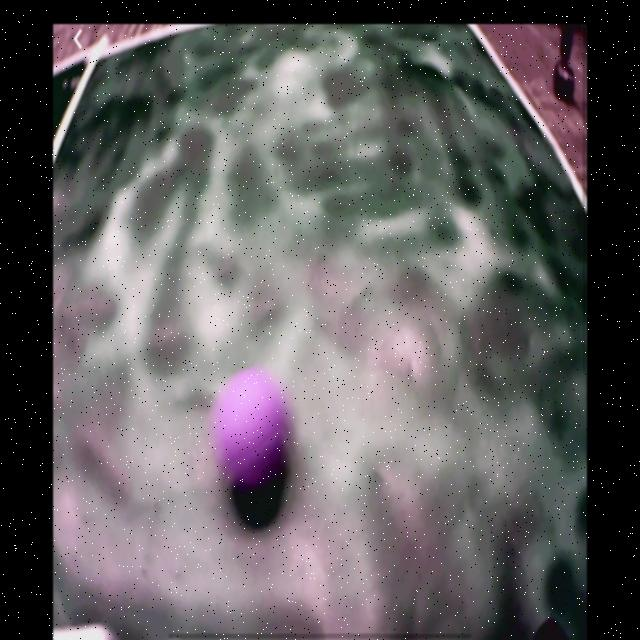ball: (214, 369, 288, 492)
